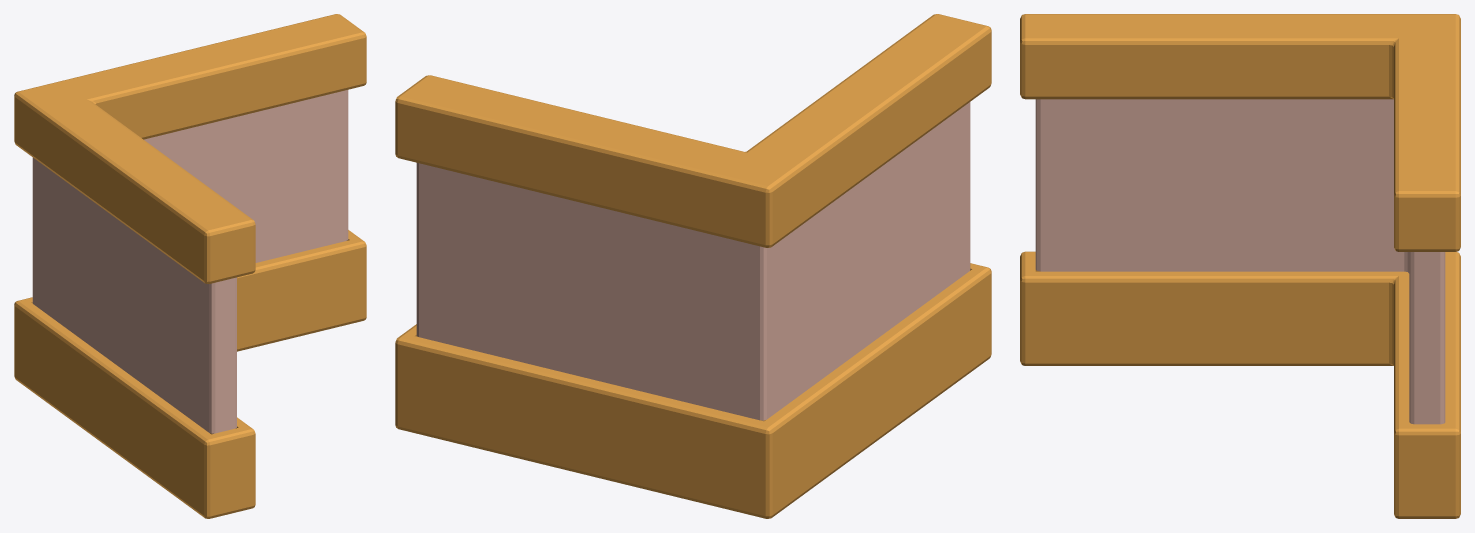
Rendered from Wall04.fbx.
3 renders of one model, left to right at view 1: azimuth 30°, elevation 25°; view 2: azimuth 150°, elevation 25°; view 3: azimuth 270°, elevation 25°, orthographic. The views are drawn at different scales.
Visible parts, largest first — view 1: Wall.002; view 2: Wall.002; view 3: Wall.002.
Part boxes in pixels (x1,y1,x2,y2): Wall.002: (14, 14, 366, 518); Wall.002: (395, 14, 991, 518); Wall.002: (1020, 14, 1460, 518).
Bounding box in the file's own units: 237 × 200 × 244.
